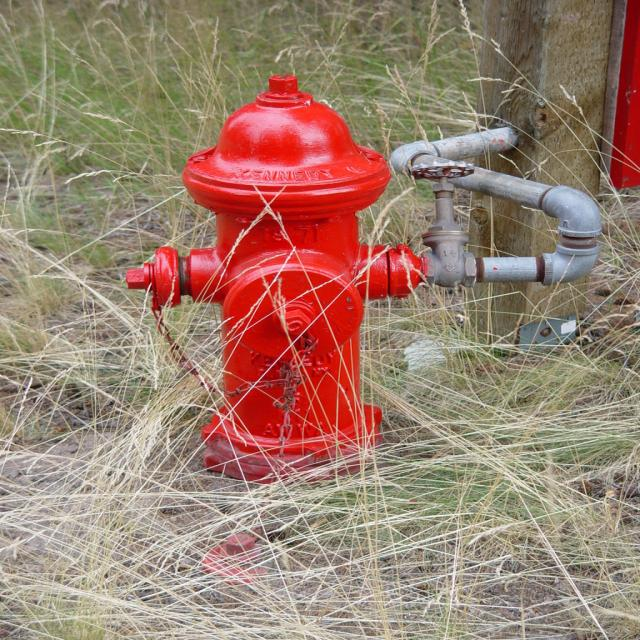fire_hydrant: (126, 77, 421, 486)
